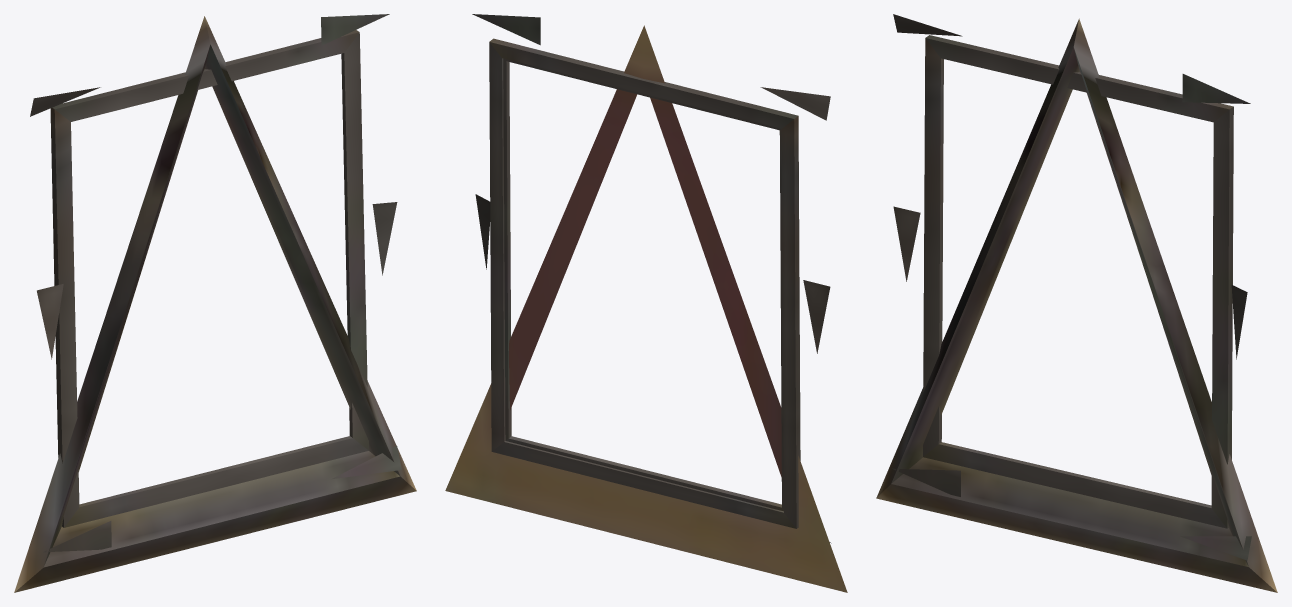
Rendered from painting-portrait.lod1.glb.
The picture shows the model from 3 angles, left to right: view 1: azimuth 30°, elevation 25°; view 2: azimuth 150°, elevation 25°; view 3: azimuth 330°, elevation 25°; orthographic projection.
Parts seen in each view (by area): view 1: painting-portrait; view 2: painting-portrait; view 3: painting-portrait.
Boxes of the visible parts, x1=… form: painting-portrait: x1=14, y1=14, x2=416, y2=592; painting-portrait: x1=445, y1=14, x2=847, y2=592; painting-portrait: x1=876, y1=14, x2=1277, y2=592.
Size of the model in its own units: 0.3325 by 0.4139 by 0.0234.
1 material, 1 textured.
